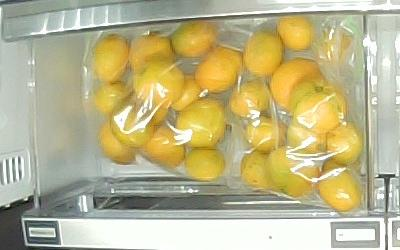tangerine_vinyl: (271, 58, 324, 111), (291, 80, 345, 131), (269, 147, 319, 199), (175, 99, 226, 149), (133, 62, 186, 107), (195, 47, 244, 93), (319, 166, 362, 212), (110, 101, 152, 147), (140, 126, 186, 168), (244, 30, 284, 78), (129, 33, 174, 74), (91, 35, 129, 83), (172, 20, 217, 58), (99, 122, 138, 164), (228, 79, 270, 117), (328, 121, 362, 166), (247, 116, 288, 152), (277, 16, 314, 51), (239, 152, 274, 189), (185, 148, 224, 180), (94, 82, 132, 114), (170, 74, 201, 113)
